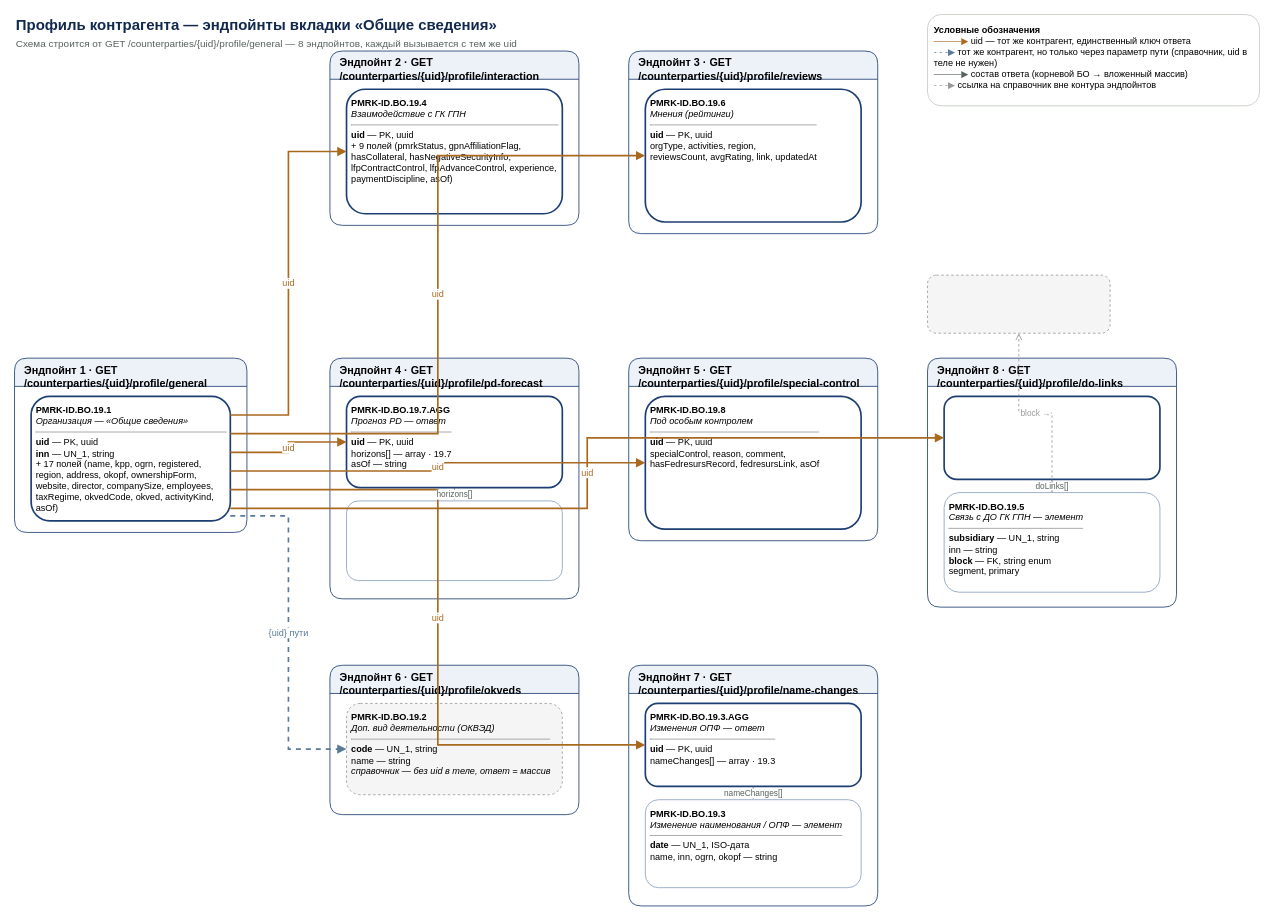
Image size: 1274x920. Some labels were removed from this diagram. The shapes that lost their labels are listed below. From the top down, each one's centre as x and y in pixels, then its label:
(1018,303): Справочник блоков ГК БРД · БЛПС · БЭФ · БЦТ · АУ
(1051,437): PMRK-ID.BO.19.5.AGG Связь с ДО — ответ uid — PK, uuid doLinks[] — array · 19.5
(454,540): PMRK-ID.BO.19.7 Прогноз PD — элемент horizon — UN_1, string enum pd — number, %
